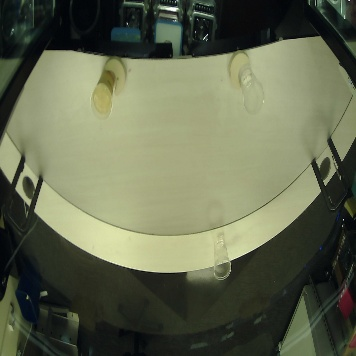empty_cup: (235, 64, 272, 118), (209, 231, 235, 282)
full_cup: (89, 68, 119, 119)
puck: (102, 54, 129, 98), (227, 48, 254, 92)
